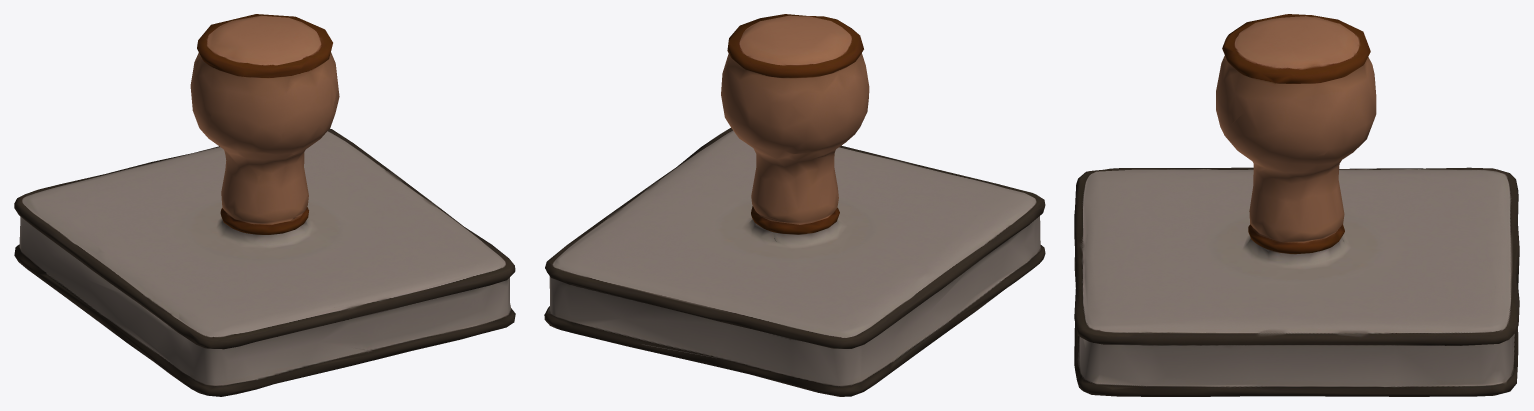
Rendered from TW_사물_s3_dessert_part_press_pineapplecake.glb.
3 renders of one model, left to right at view 1: azimuth 30°, elevation 25°; view 2: azimuth 150°, elevation 25°; view 3: azimuth 270°, elevation 25°, orthographic. The views are drawn at different scales.
Parts seen in each view (by area): view 1: tripo_node_131f9ffb-5f7f-4001-bfc3-0210613278fd; view 2: tripo_node_131f9ffb-5f7f-4001-bfc3-0210613278fd; view 3: tripo_node_131f9ffb-5f7f-4001-bfc3-0210613278fd.
Part boxes in pixels (bbox=[...]): tripo_node_131f9ffb-5f7f-4001-bfc3-0210613278fd: bbox=[14, 14, 515, 396]; tripo_node_131f9ffb-5f7f-4001-bfc3-0210613278fd: bbox=[544, 14, 1045, 396]; tripo_node_131f9ffb-5f7f-4001-bfc3-0210613278fd: bbox=[1074, 14, 1519, 396].
Bounding box in the file's own units: 0.907 × 0.701 × 1.
1 material, 1 textured.
